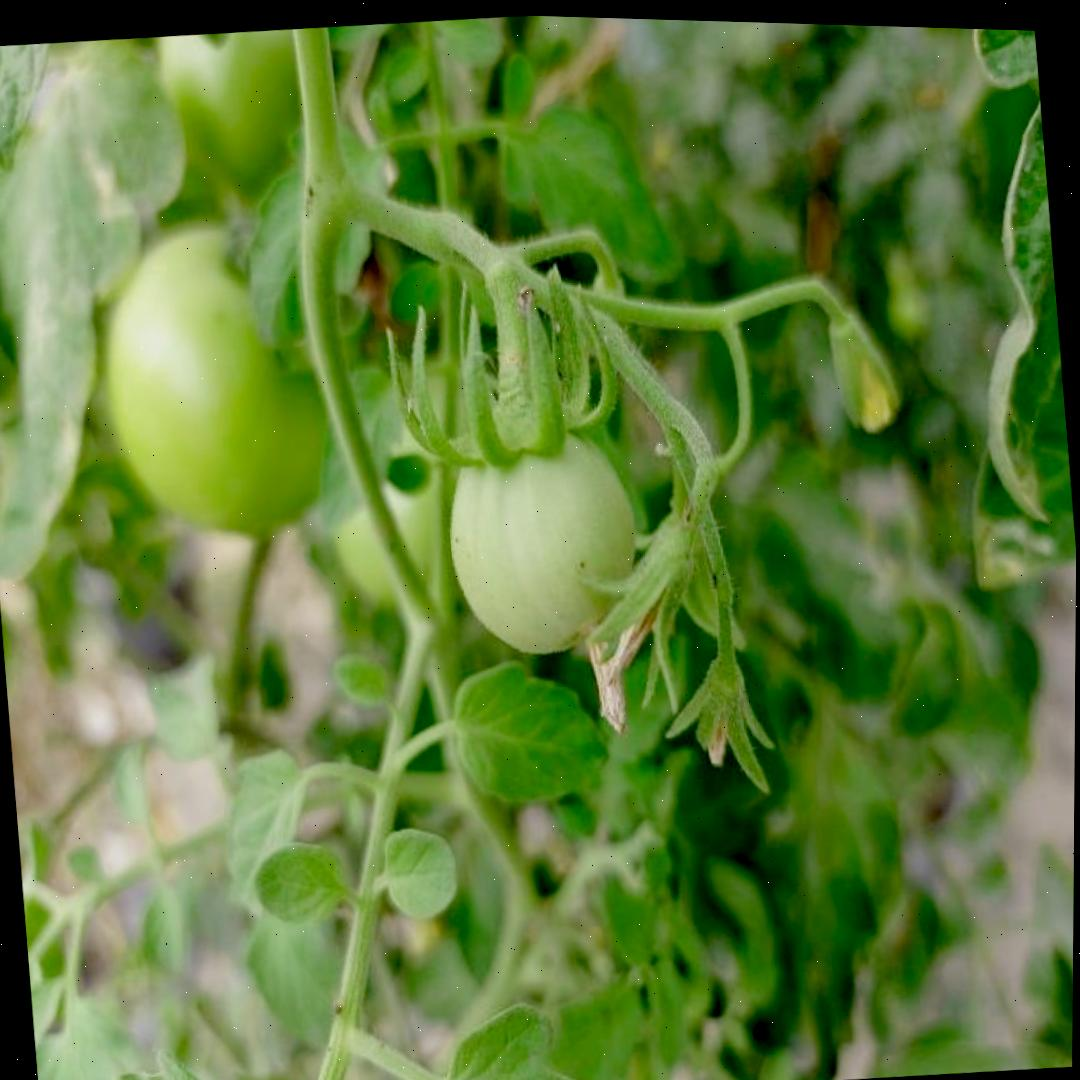mentah: (435, 405, 649, 671)
